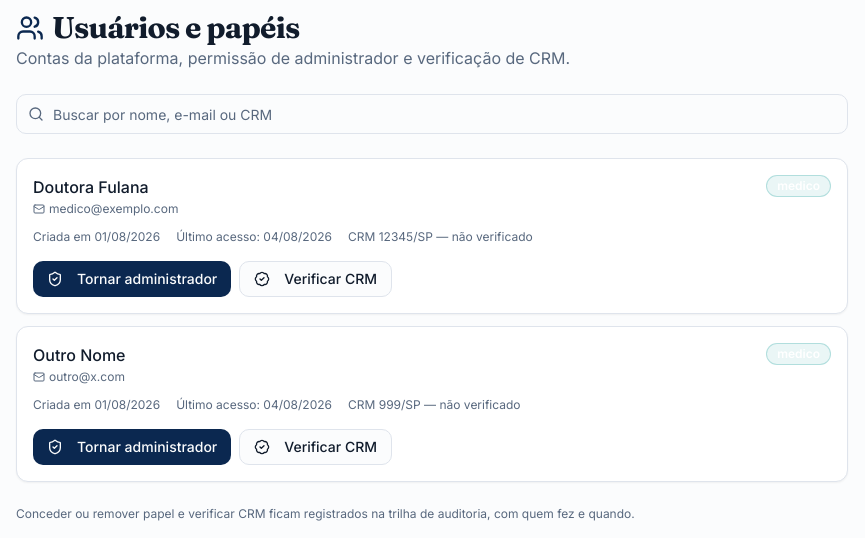
Scenario: AdminUsuarios › busca filtra por e-mail, nome ou CRM
Expected: the text "Doutora Fulana" is shown, 33,177 -> 149,197
Step 1. Type "999" into the field with placeholder "Buscar por nome, e-mail ou CRM" → (432, 114), box 16,94 -> 848,134
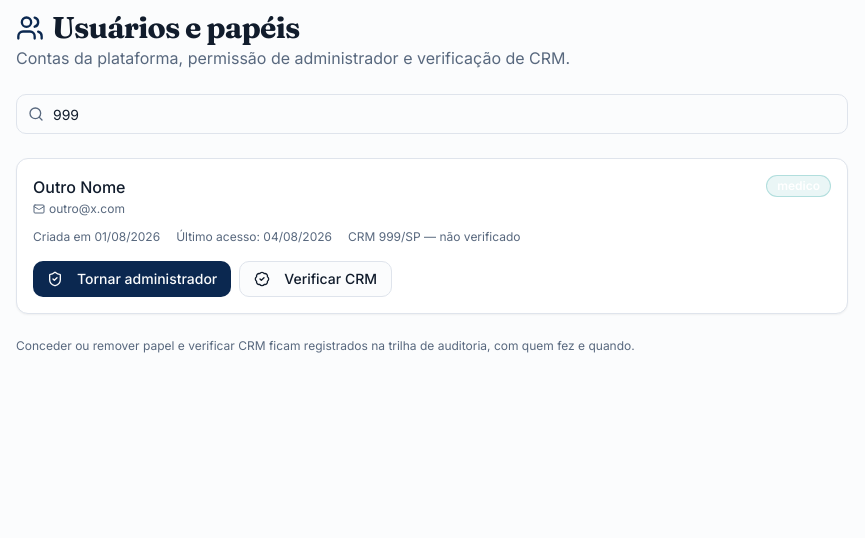
Expected: the text "Outro Nome" is shown, 33,177 -> 126,197
Expected: the text "Doutora Fulana" is gone
